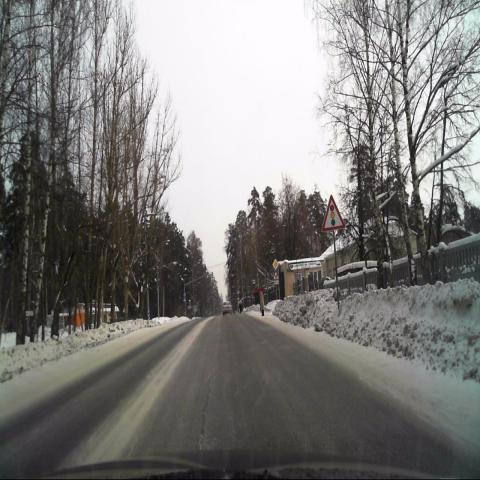1_8: (320, 195, 346, 231)
